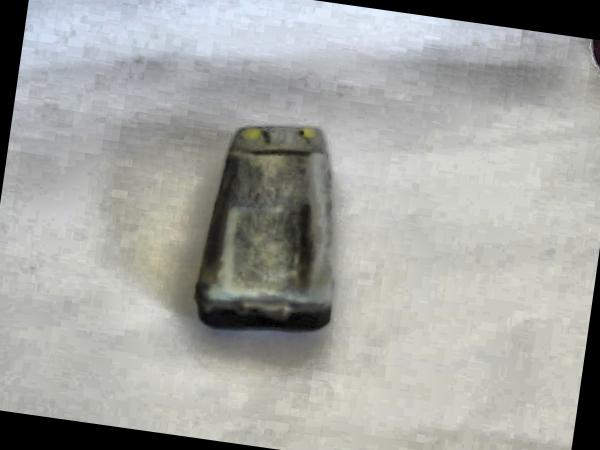normal_car: (179, 106, 369, 352)
